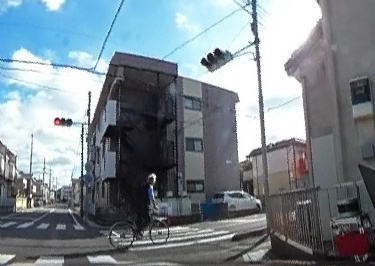person: (136, 169, 159, 234)
